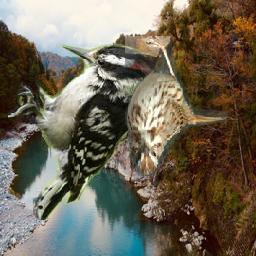Sparrow: (125, 36, 227, 176)
Woodpecker: (8, 42, 154, 221)
